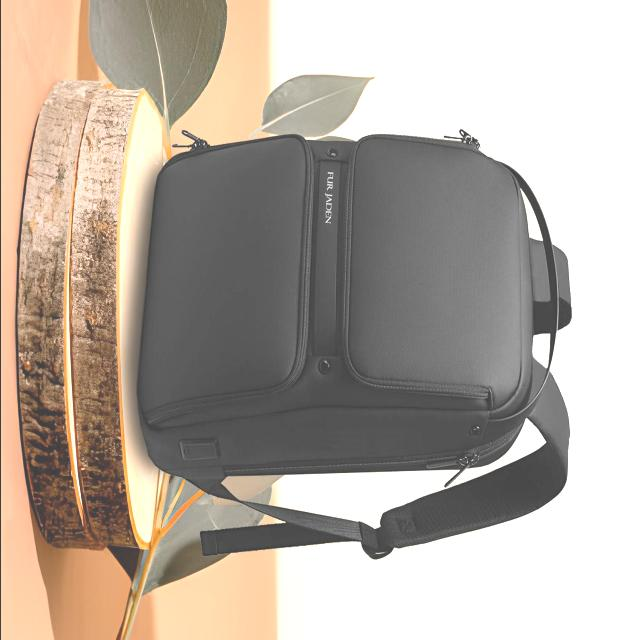backpack: (134, 100, 588, 590)
